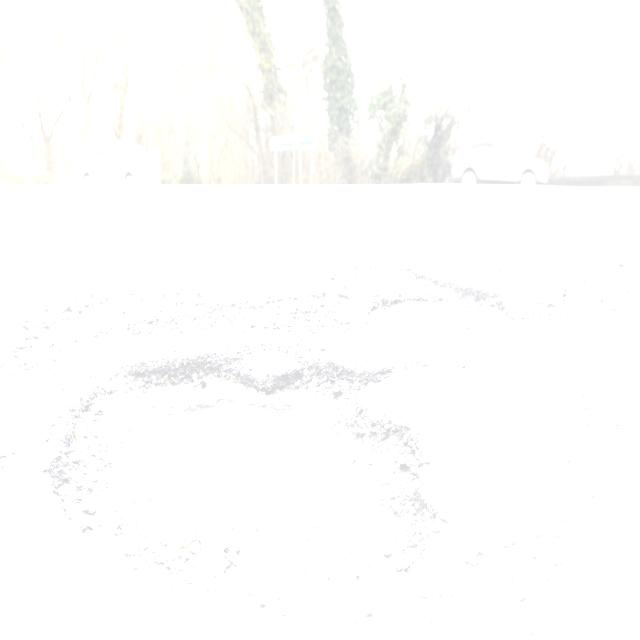Pothole: (1, 256, 640, 640)
